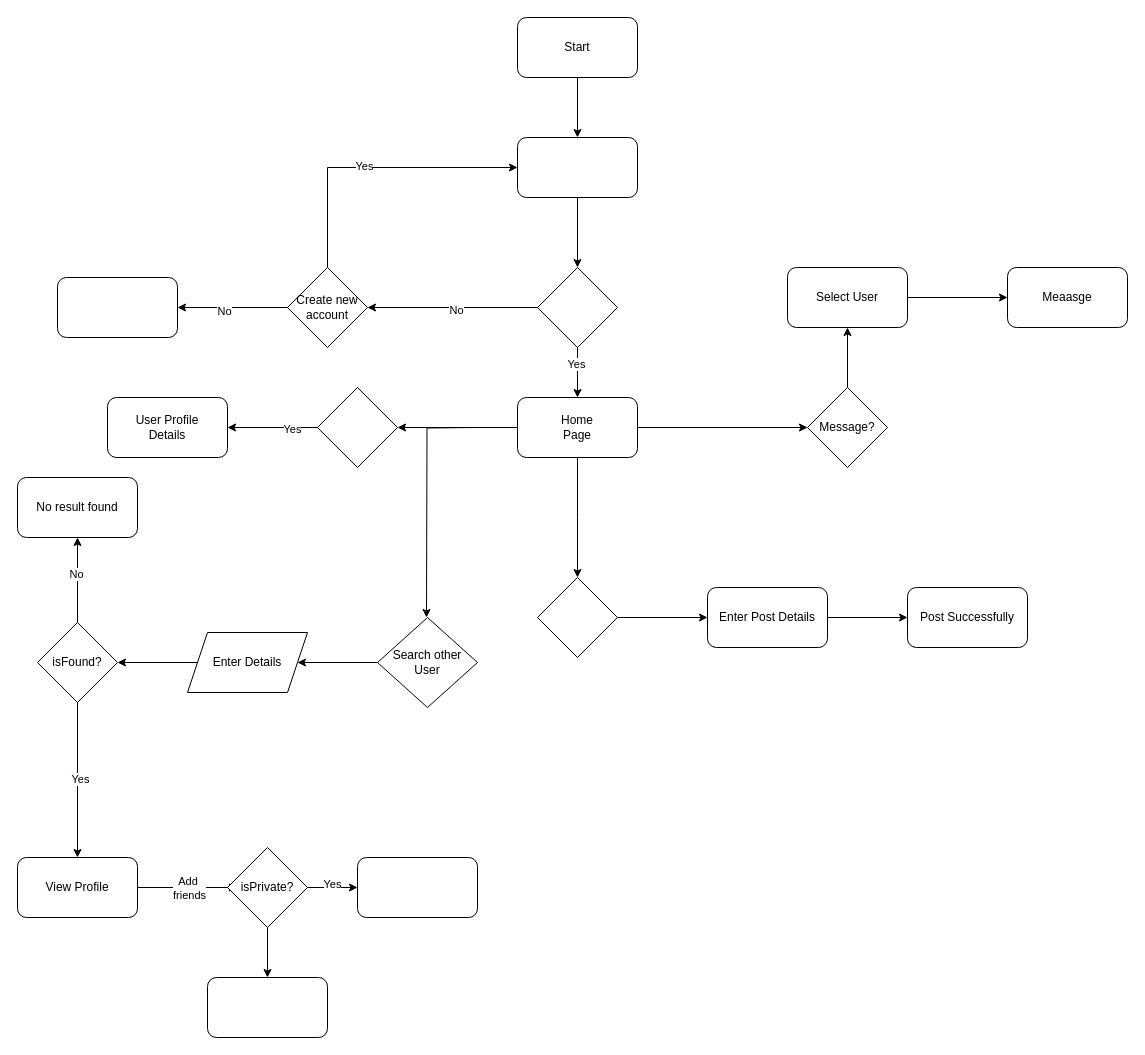
This 1145x1055 diagram has some shape labels left out. Here are the shapes that lost their labels. From the top down, the centre of each, then its label:
At [577,167]: "Login".
At [117,307]: "Exit".
At [577,307]: "isExist?".
At [357,427]: "View Profile?".
At [577,617]: "Post?".
At [417,887]: "Request Send".
At [267,1007]: "Added to friend List".
